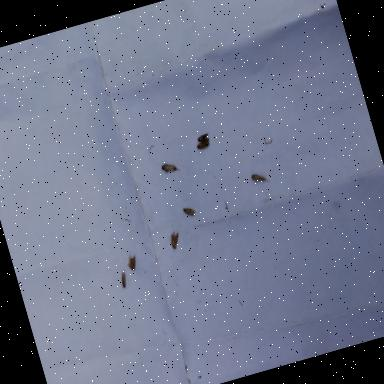pbw: (251, 170, 270, 186), (168, 230, 183, 250), (160, 160, 180, 174), (126, 254, 139, 270), (183, 205, 197, 218), (119, 272, 128, 288), (196, 140, 210, 150), (197, 132, 210, 142)
